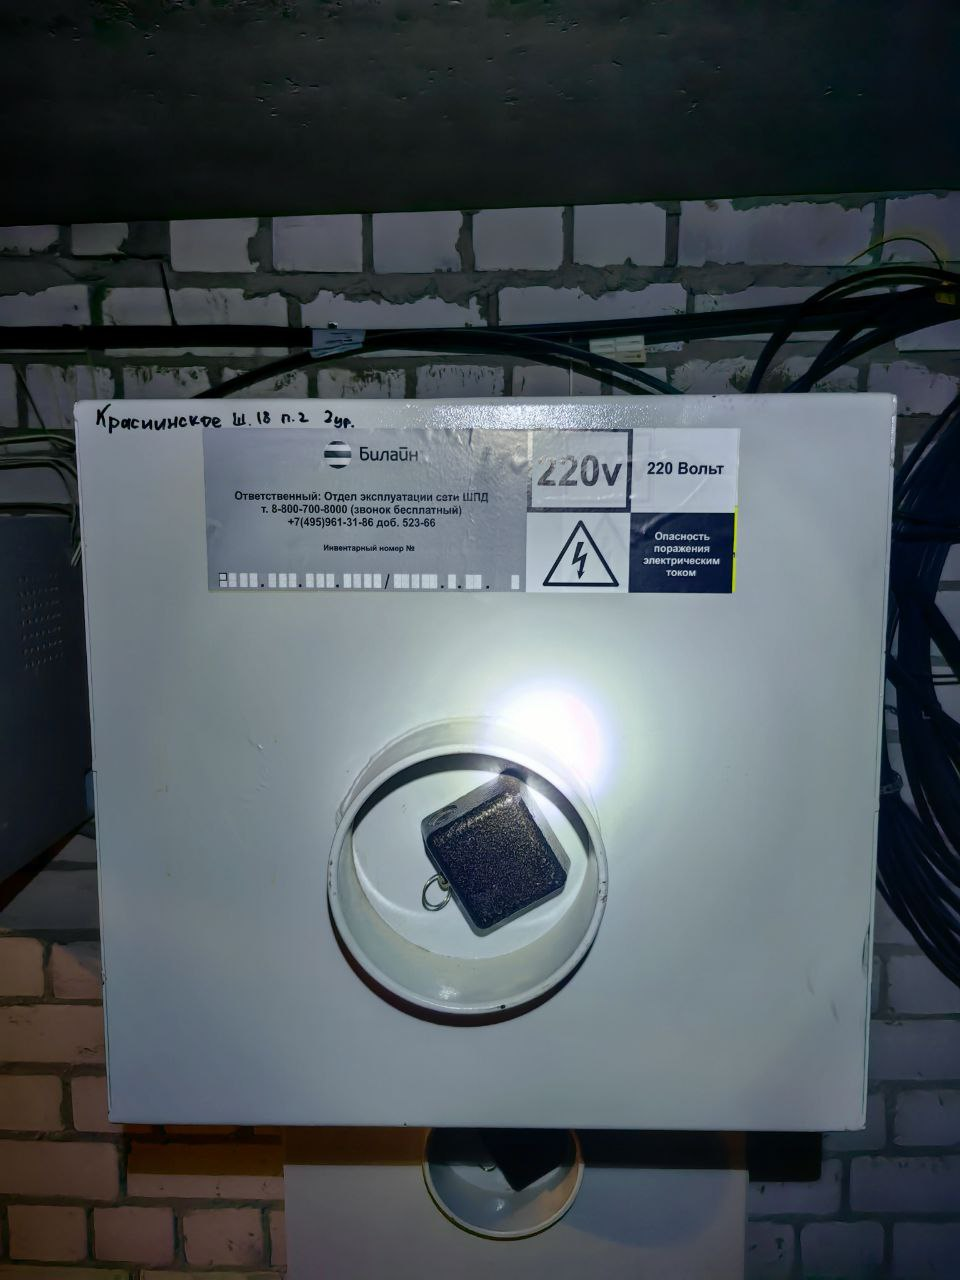shta-9: (65, 387, 903, 1139)
